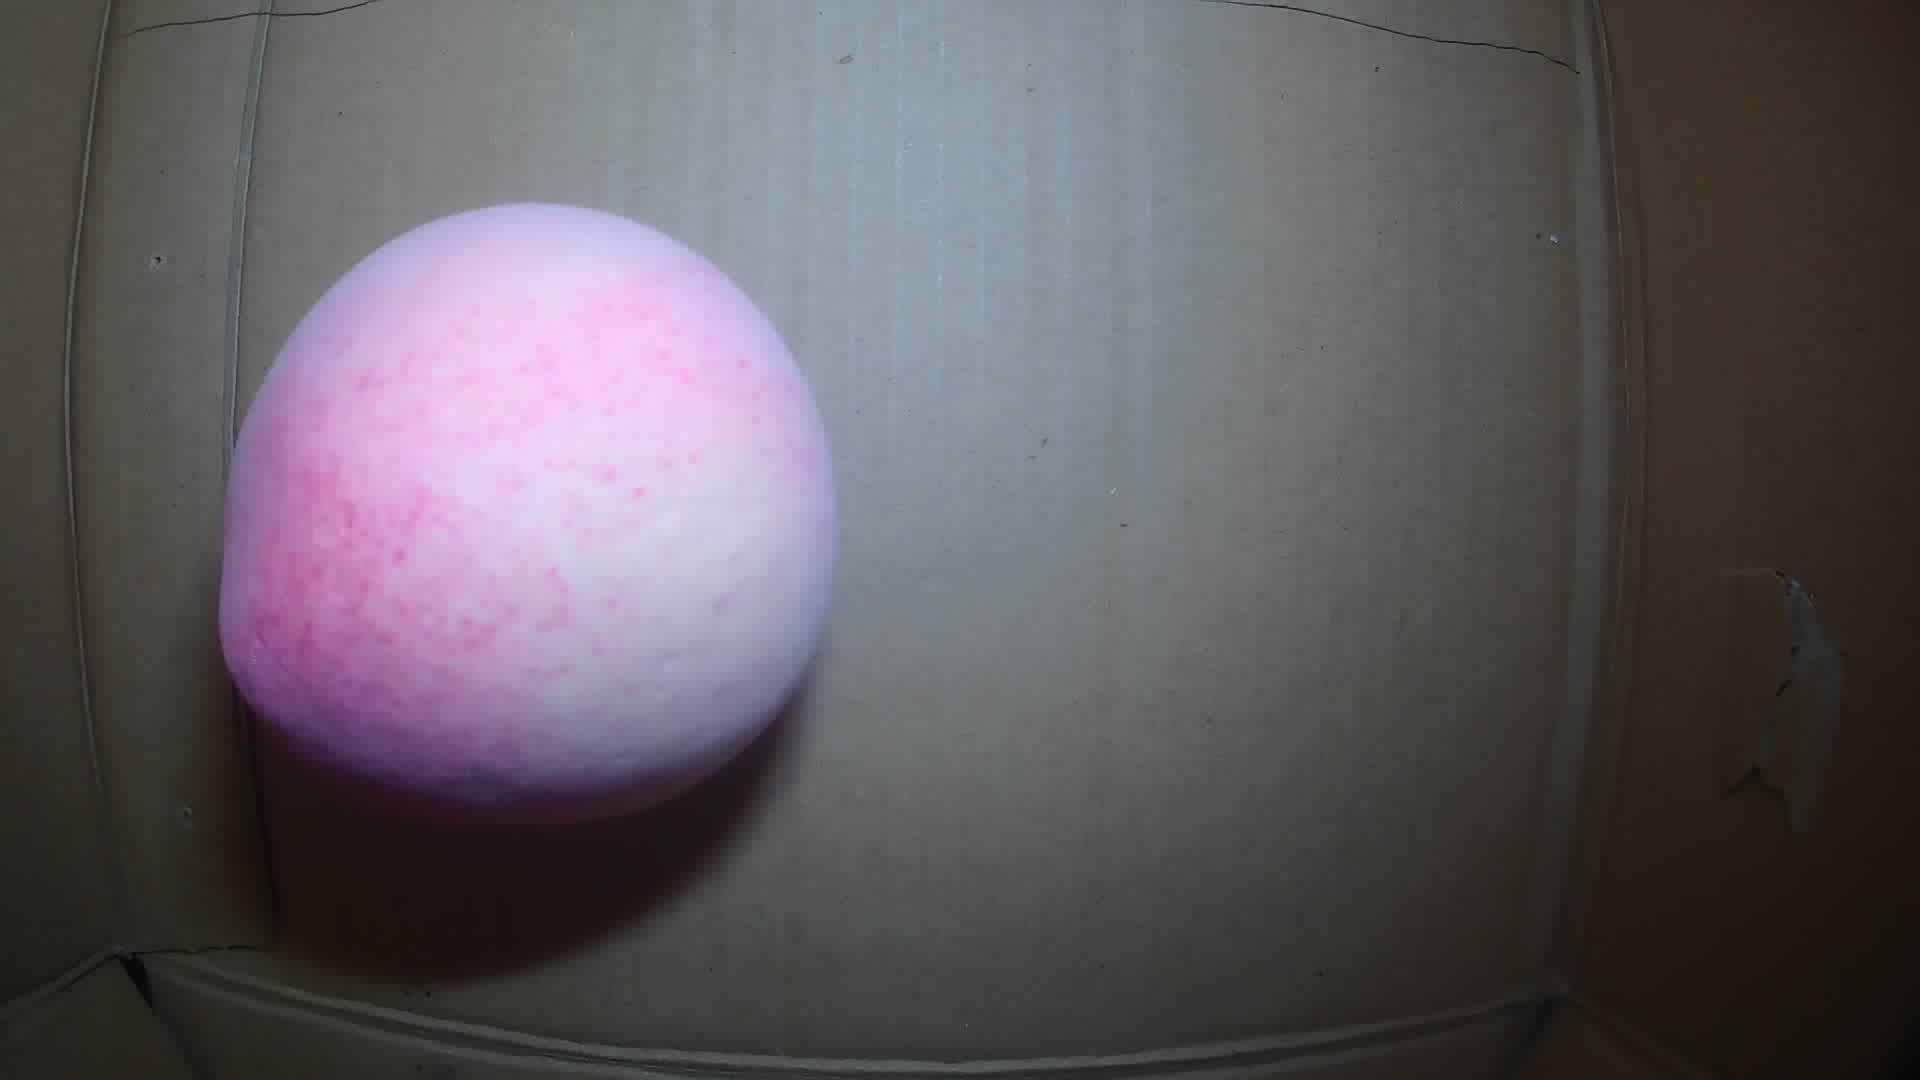peach: (208, 195, 843, 822)
